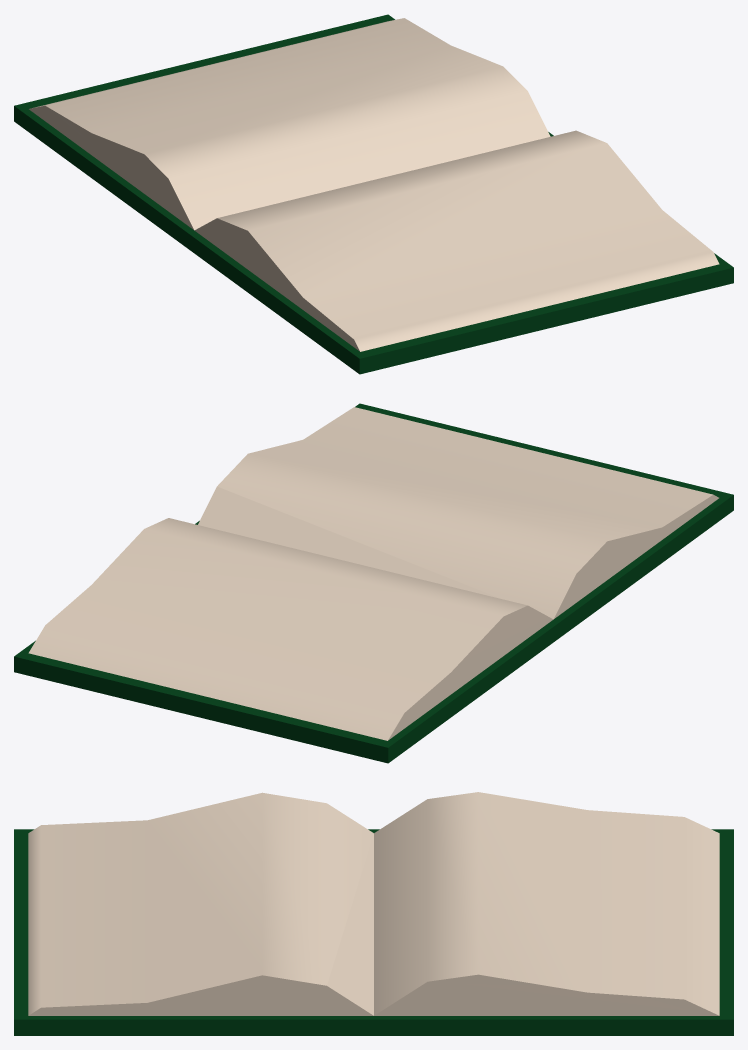
File: book.glb
3 views of the same model, one above another, from view 1: azimuth 30°, elevation 25°; view 2: azimuth 150°, elevation 25°; view 3: azimuth 270°, elevation 25° (orthographic). The views are drawn at different scales.
Visible parts, largest first — view 1: BookOpen_0.6x0.4x0.1; view 2: BookOpen_0.6x0.4x0.1; view 3: BookOpen_0.6x0.4x0.1.
Part boxes in pixels (x1,y1,x2,y2): BookOpen_0.6x0.4x0.1: (14,14,733,374); BookOpen_0.6x0.4x0.1: (14,403,733,763); BookOpen_0.6x0.4x0.1: (14,792,733,1035).
Bounding box in the file's own units: 0.375 × 0.0529 × 0.6.
